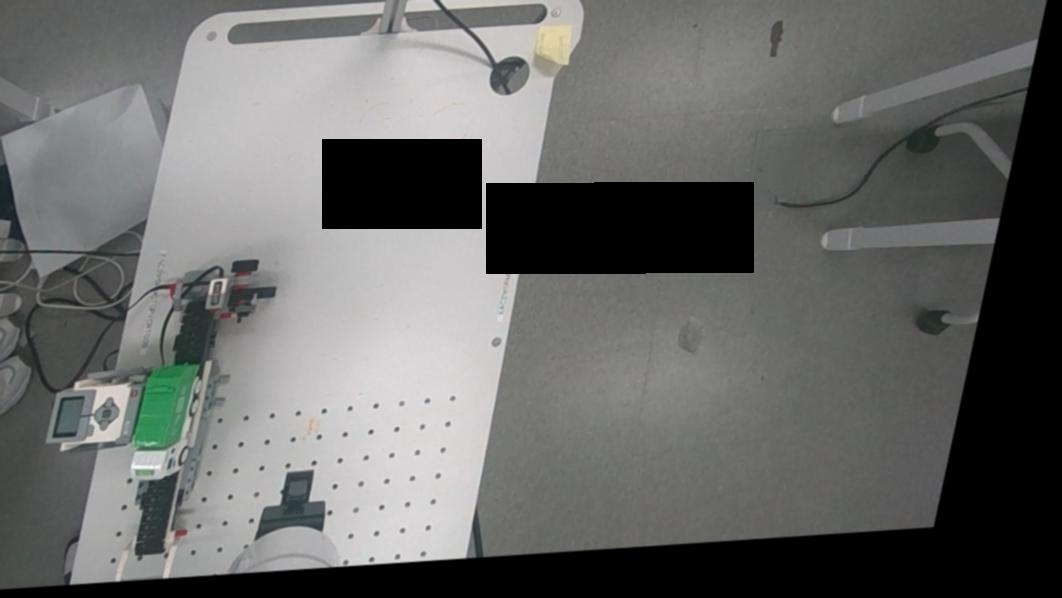truck: (116, 347, 226, 485)
